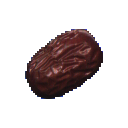gd: (14, 15, 125, 115)
